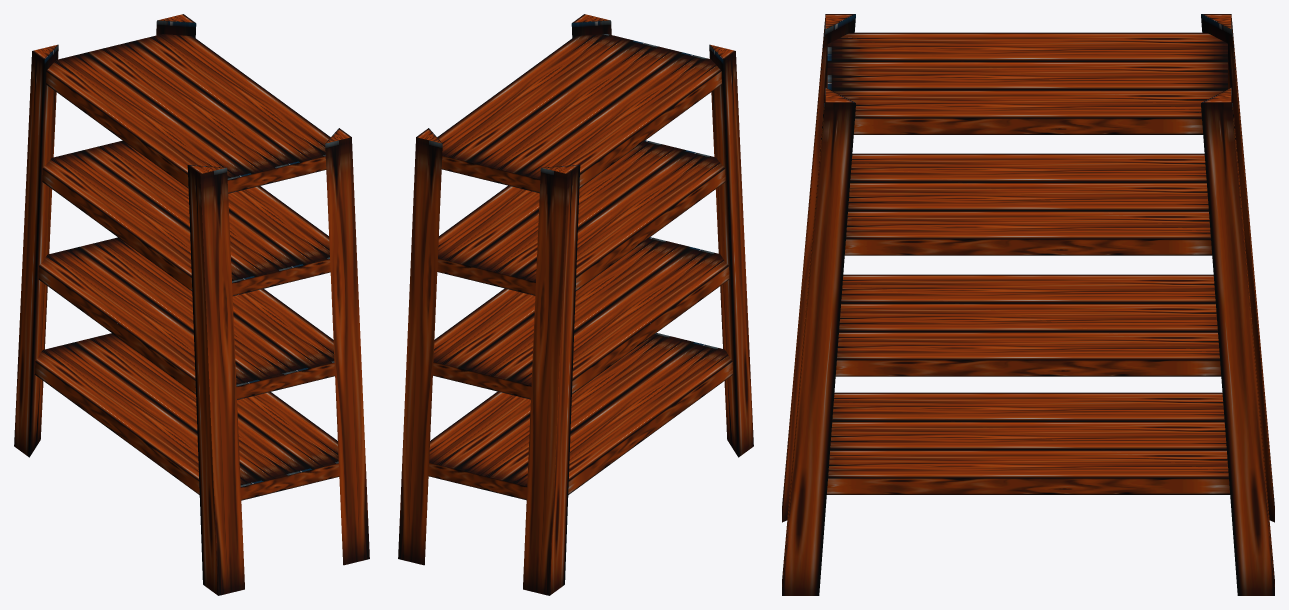
File: Regal_Groß [Mahagoni]_2267.glb
3 views of the same model, side by side, from view 1: azimuth 30°, elevation 25°; view 2: azimuth 150°, elevation 25°; view 3: azimuth 270°, elevation 25° (orthographic). The views are drawn at different scales.
Parts seen in each view (by area): view 1: pPlaneShape1, pPlaneShape18, pCylinderShape3, pPlaneShape13, pPlaneShape8, pCylinderShape4, pCylinderShape1, pPlaneShape16, pPlaneShape11, pPlaneShape6, pPlaneShape2, pPlaneShape10 (+4 smaller); view 2: pPlaneShape1, pPlaneShape18, pCylinderShape1, pPlaneShape13, pPlaneShape8, pCylinderShape2, pCylinderShape3, pPlaneShape16, pPlaneShape11, pPlaneShape6, pPlaneShape2, pPlaneShape7 (+4 smaller); view 3: pPlaneShape18, pPlaneShape1, pPlaneShape13, pPlaneShape8, pCylinderShape2, pCylinderShape4, pPlaneShape19, pPlaneShape14, pPlaneShape9, pPlaneShape3, pCylinderShape1, pCylinderShape3.
Part boxes in pixels (x1,y1,x2,y2): pPlaneShape1: (47,34,330,179); pPlaneShape18: (35,333,338,486); pCylinderShape3: (187,165,244,595); pPlaneShape13: (39,237,334,386); pPlaneShape8: (43,140,329,282); pCylinderShape4: (325,137,369,565); pCylinderShape1: (14,45,58,457); pPlaneShape16: (34,361,199,494); pPlaneShape11: (38,266,195,394); pPlaneShape6: (42,168,192,291); pPlaneShape2: (46,71,188,188); pPlaneShape10: (232,259,330,295); pPlaneShape1: (437,34,720,179); pPlaneShape18: (429,333,732,486); pCylinderShape1: (523,165,580,595); pPlaneShape13: (433,237,728,385); pPlaneShape8: (438,140,724,281); pCylinderShape2: (398,137,442,565); pCylinderShape3: (709,45,753,457); pPlaneShape16: (568,361,733,494); pPlaneShape11: (572,266,729,394); pPlaneShape6: (575,168,725,291); pPlaneShape2: (579,71,721,188); pPlaneShape7: (437,258,535,295); pPlaneShape18: (828,392,1228,478); pPlaneShape1: (827,32,1227,118); pPlaneShape13: (837,274,1219,359); pPlaneShape8: (846,153,1210,238); pCylinderShape2: (1201,87,1274,595); pCylinderShape4: (782,87,855,595); pPlaneShape19: (827,478,1229,494); pPlaneShape14: (835,360,1221,376); pPlaneShape9: (844,239,1212,255); pPlaneShape3: (853,118,1203,134); pCylinderShape1: (1201,14,1274,522); pCylinderShape3: (782,14,855,522).
Bounding box in the file's own units: 0.0969 × 0.2499 × 0.2265.
28 materials, 28 textured.
